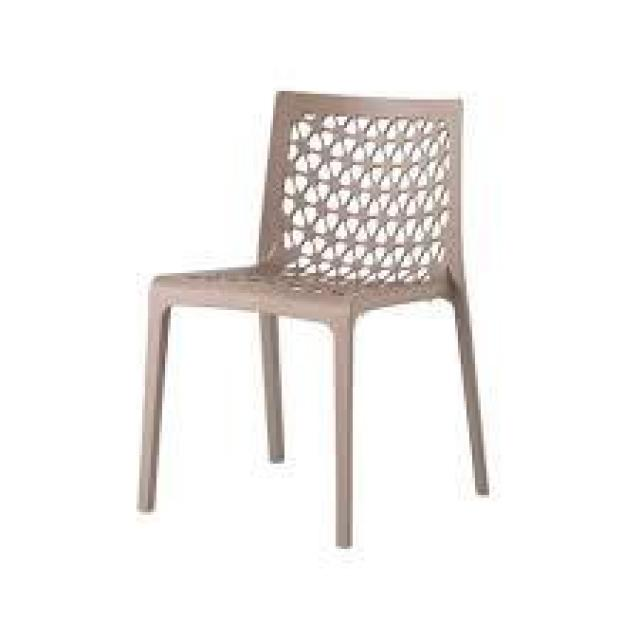chair: (91, 58, 526, 556)
